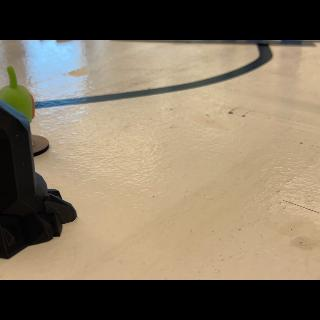teletubby: (0, 66, 34, 123)
